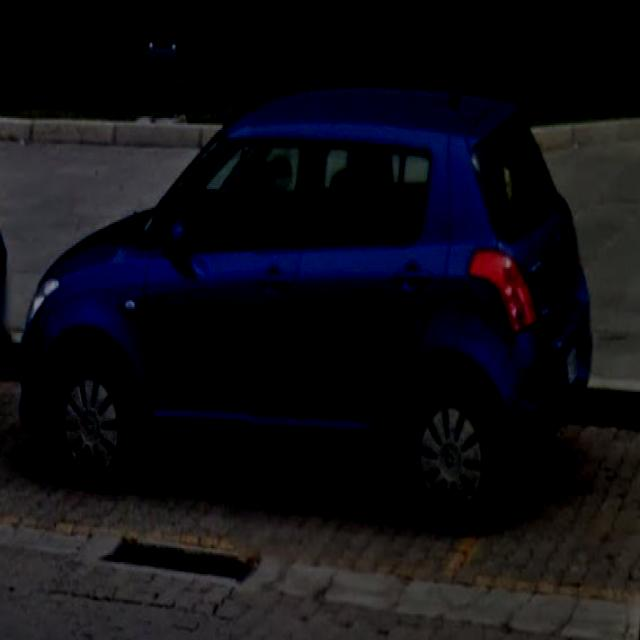car: (30, 86, 594, 525)
